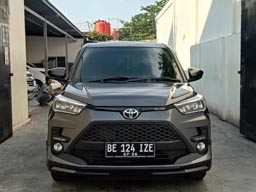plat: (105, 141, 156, 153)
